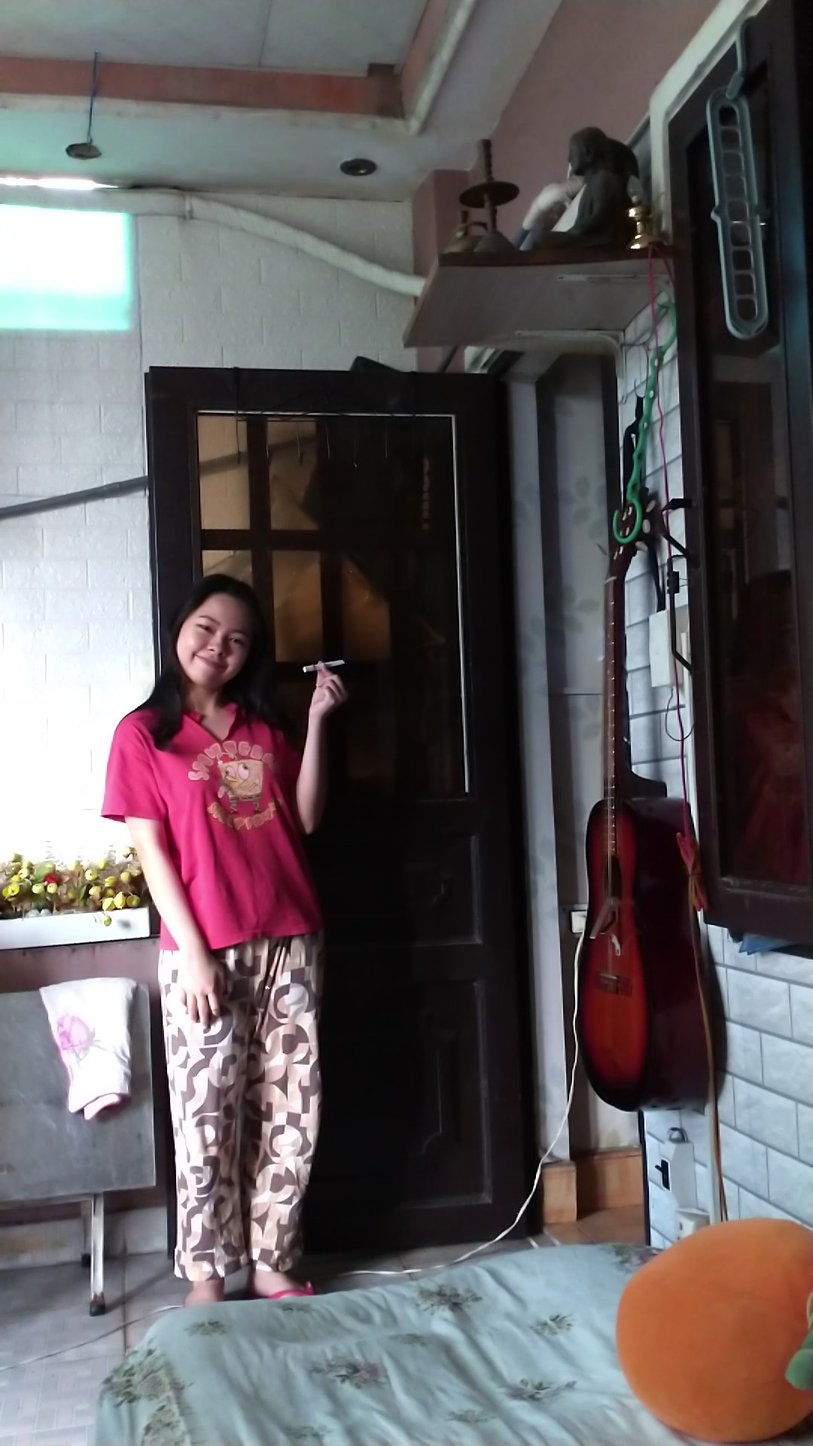cigarette: (300, 657, 347, 676)
person: (99, 559, 345, 1310)
